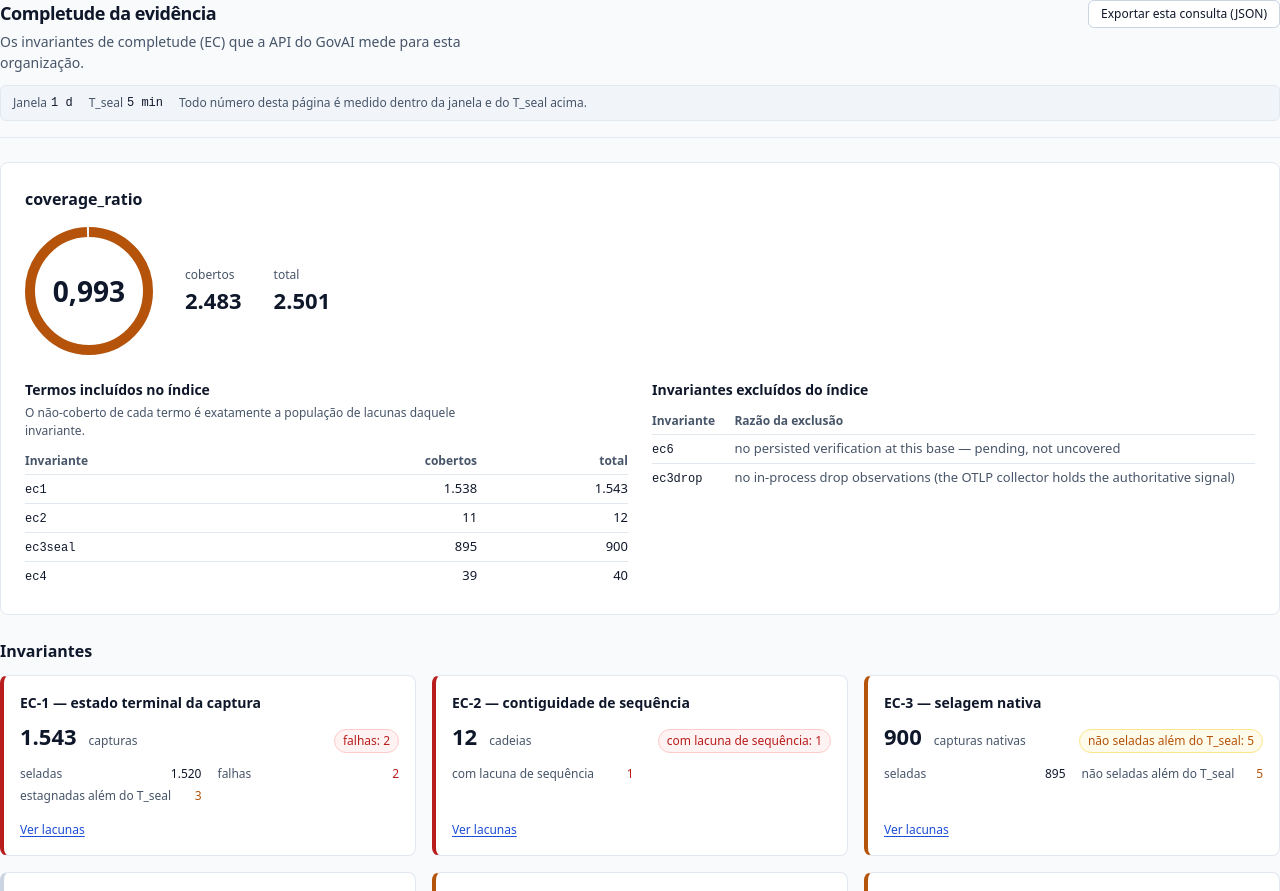
it: query export — in the cockpit › does not carry a stale "copied" into a freshly stamped artifact
Expected: the element with test id "coverage-panel" is shown, [0, 162, 1279, 615]
Step 1. Click the button with test id "query-export-open" → (1184, 14), box [1088, 0, 1279, 28]
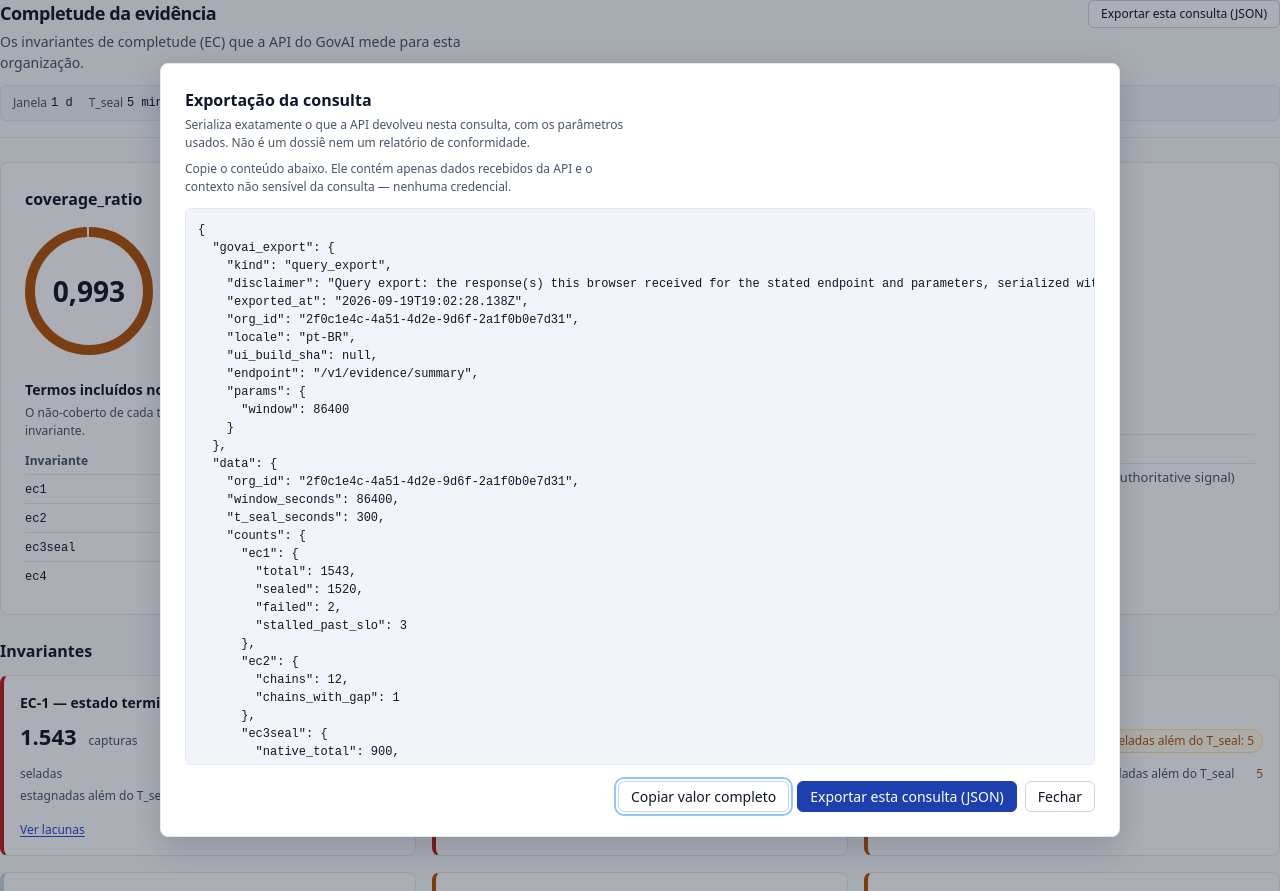
Result: the text with test id "query-export-json" is shown at [185, 208, 1095, 765]
Step 2. Click the button with test id "query-export-copy" → (704, 796), box [618, 781, 789, 812]
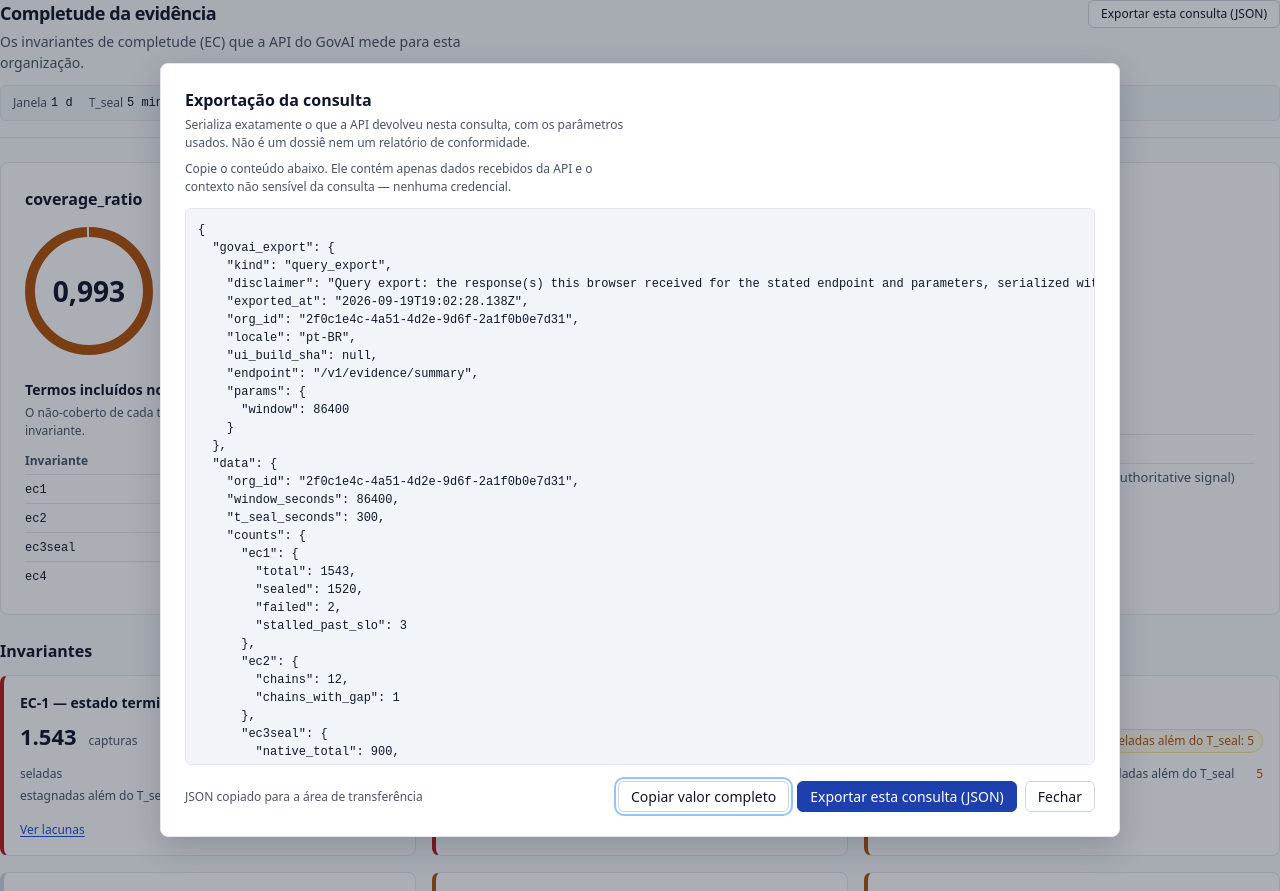
Result: the text "JSON copiado para a área de transferência" is shown at [185, 788, 423, 806]
Step 3. Press Escape
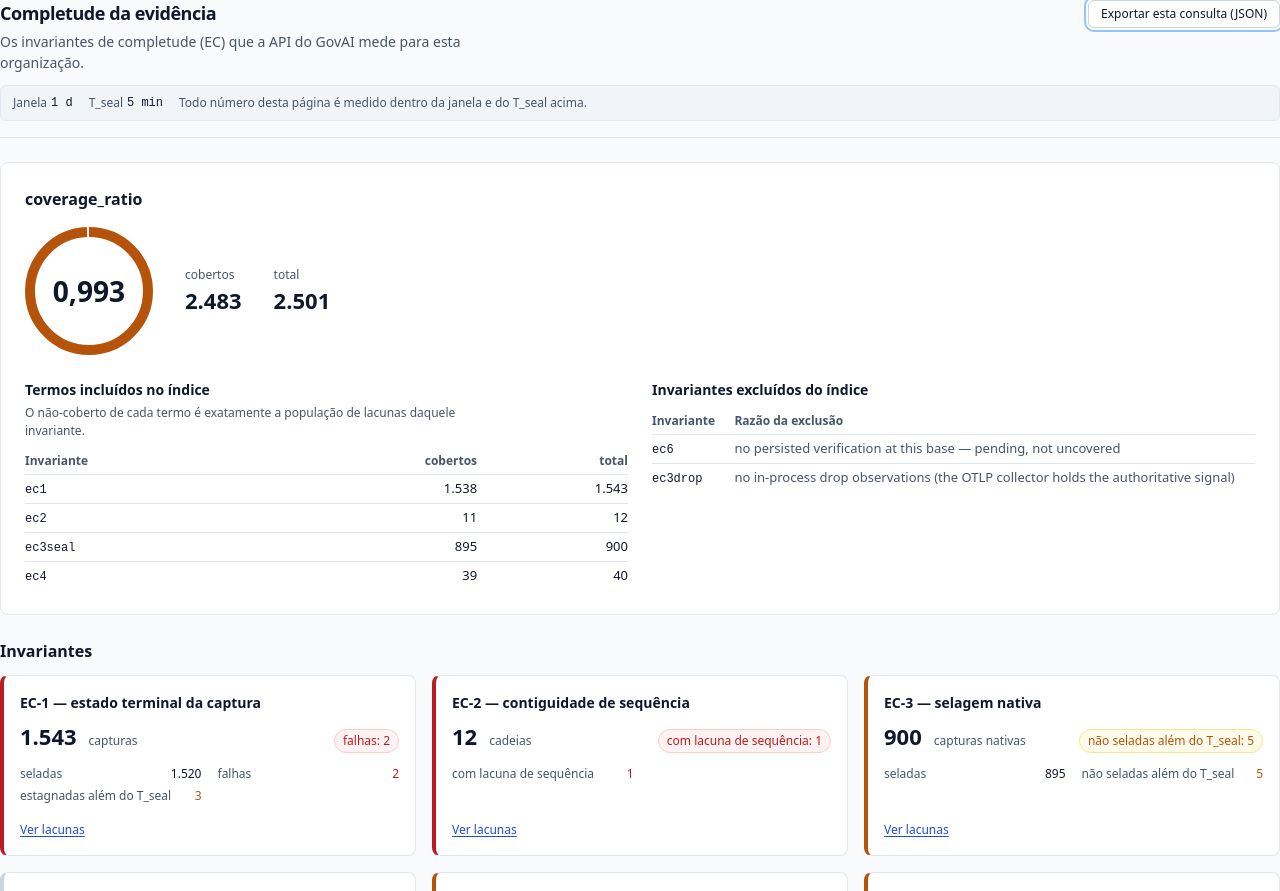
Result: the text with test id "query-export-json" is gone
Step 4. Click the button with test id "query-export-open" → (1184, 14), box [1088, 0, 1279, 28]
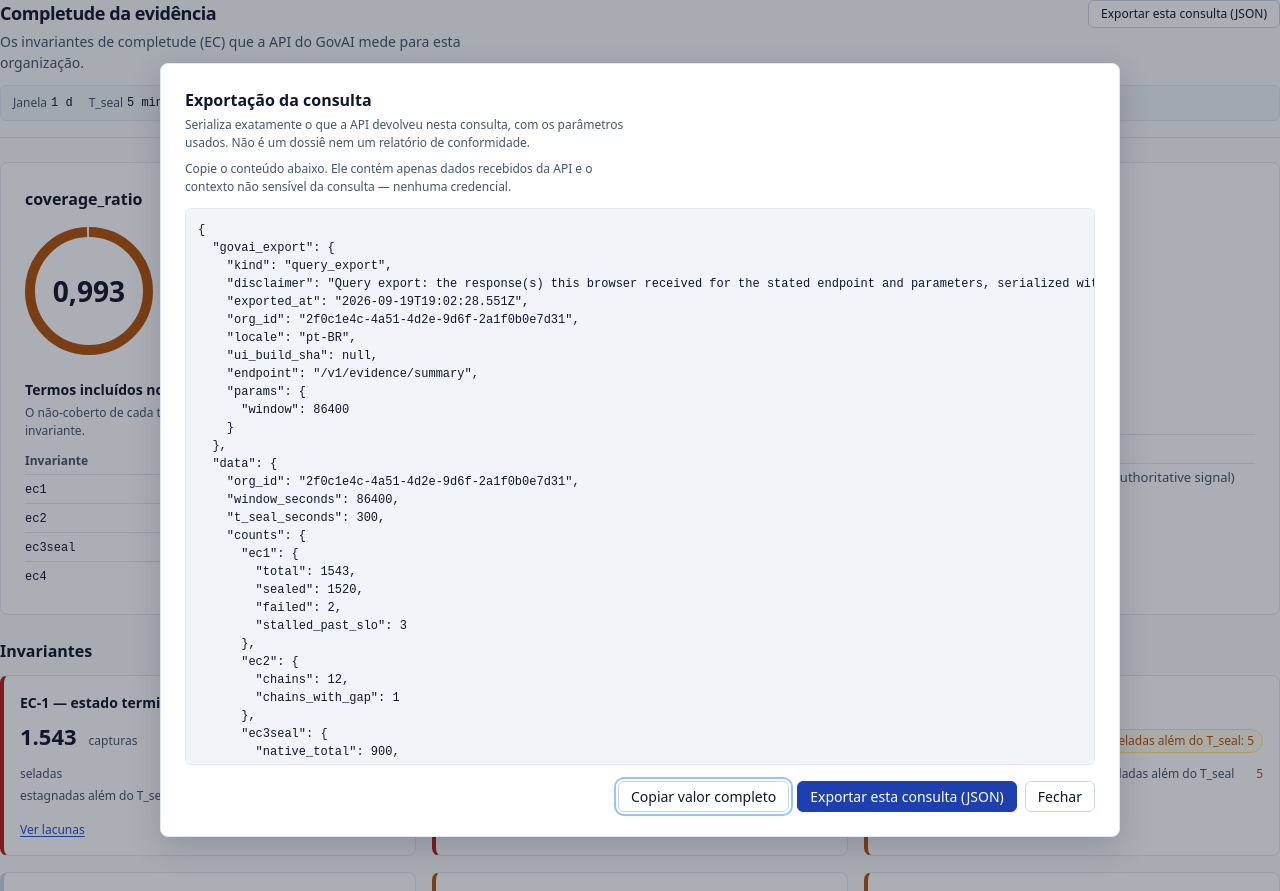
Expected: the text "JSON copiado para a área de transferência" is not shown
Result: the text with test id "query-export-json" is shown at [185, 208, 1095, 765]
